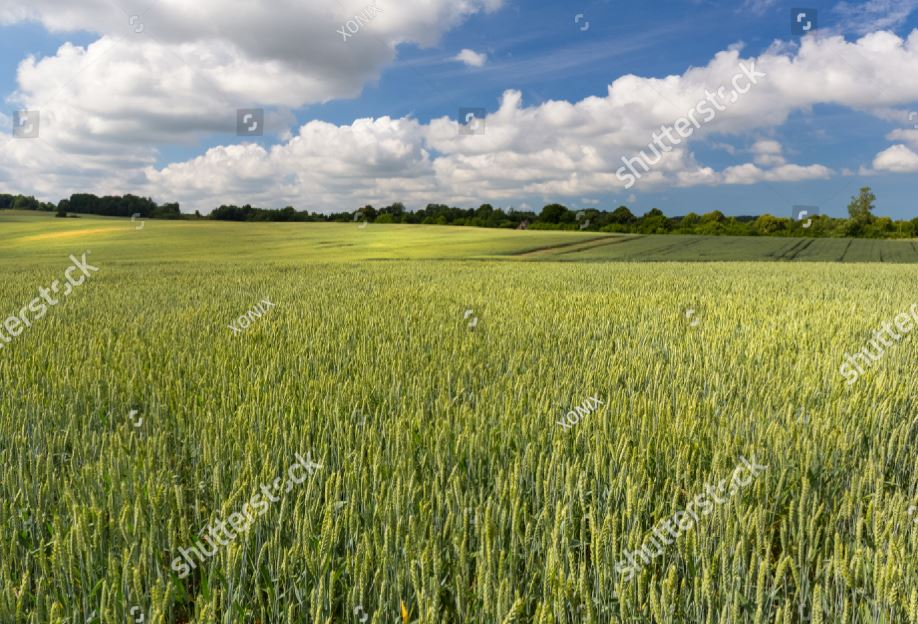Wheat: (101, 402, 618, 615)
